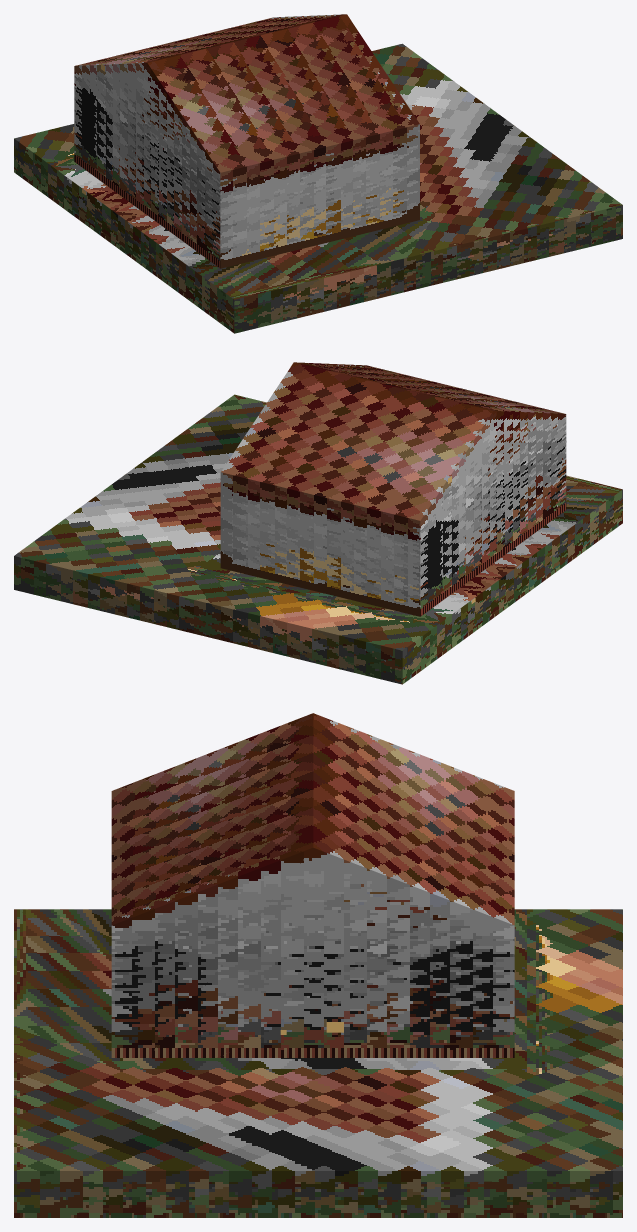
File: dum_51_domy_2.glb
3 views of the same model, one above another, from view 1: azimuth 30°, elevation 25°; view 2: azimuth 150°, elevation 25°; view 3: azimuth 270°, elevation 25° (orthographic). The views are drawn at different scales.
Parts seen in each view (by area): view 1: object 1; view 2: object 1; view 3: object 1.
Part boxes in pixels (x1,y1,x2,y2): object 1: [14, 14, 622, 333]; object 1: [14, 362, 622, 684]; object 1: [14, 713, 622, 1217].
Bounding box in the file's own units: 13.52 × 6.19 × 13.27.
Materials: 1 (1 with a texture image).
